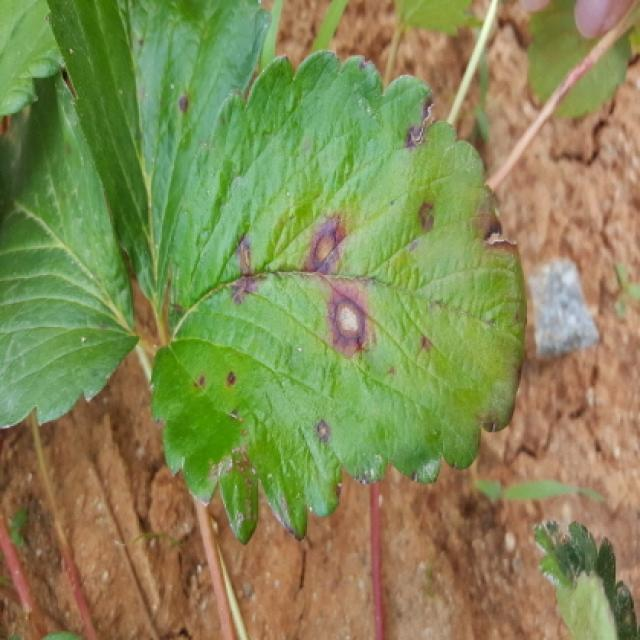Leaf Spot: (149, 49, 529, 549), (46, 0, 273, 320)
